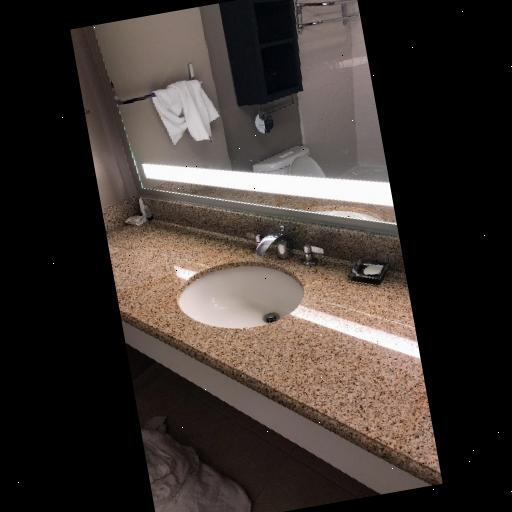clean_sink: (104, 185, 437, 493)
disorganized_towel: (141, 407, 267, 512), (150, 72, 228, 151)
